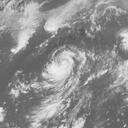cyclone: (43, 43, 86, 85)
